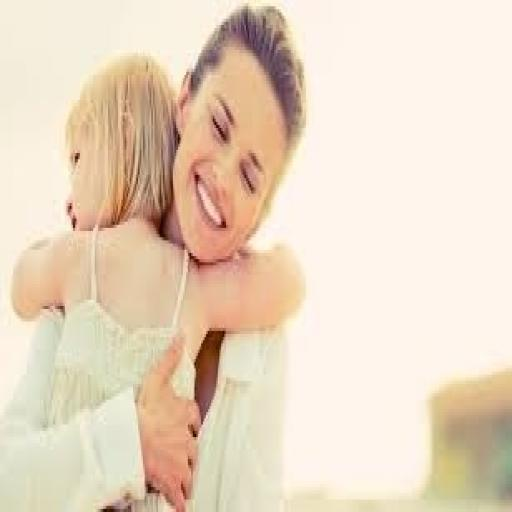hugging: (2, 3, 309, 509)
